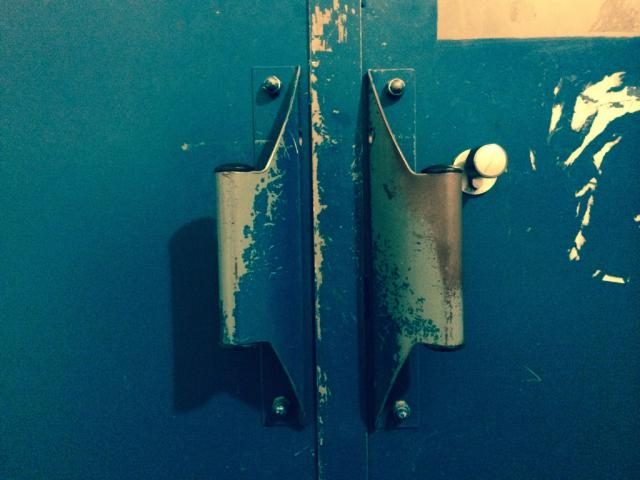Door-handle: (365, 68, 467, 430), (214, 65, 310, 429), (452, 143, 508, 196)
